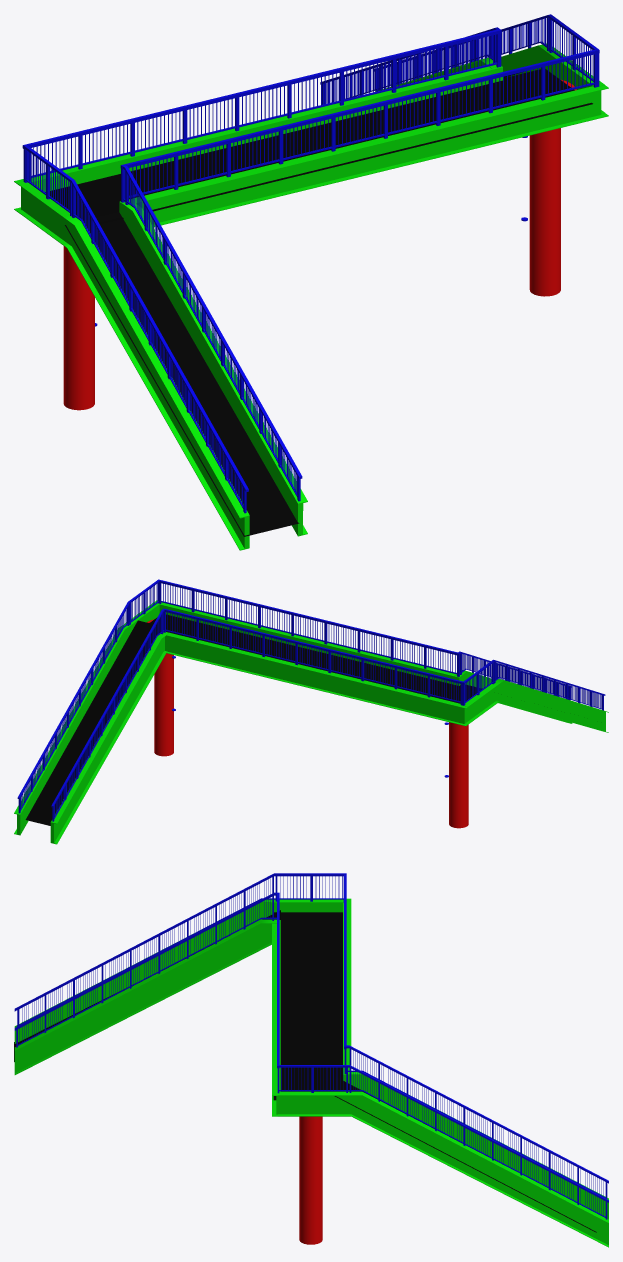
The model's file is hodoukyou_mid.fbx.
3 renders of one model, top to bottom at view 1: azimuth 30°, elevation 25°; view 2: azimuth 150°, elevation 25°; view 3: azimuth 270°, elevation 25°, orthographic. The views are drawn at different scales.
Visible parts, largest first — view 1: pPlane4; view 2: pPlane4; view 3: pPlane4.
Boxes of the visible parts, box(x1,y1,x2,y2) form: pPlane4: box(14, 14, 608, 550); pPlane4: box(14, 579, 608, 844); pPlane4: box(14, 873, 608, 1247).
Size of the model in its own units: 105 by 46.17 by 134.
